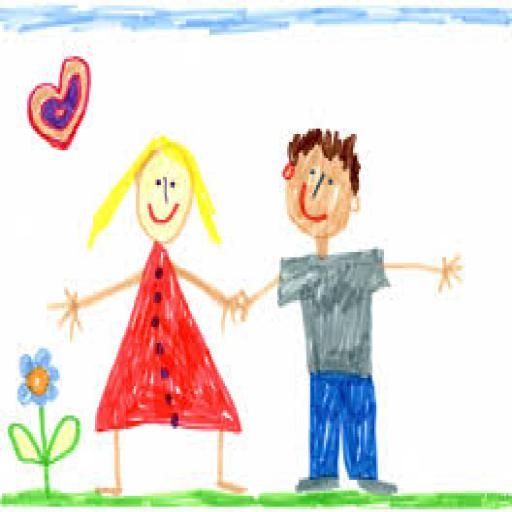person: (245, 124, 475, 499), (45, 132, 247, 510)
